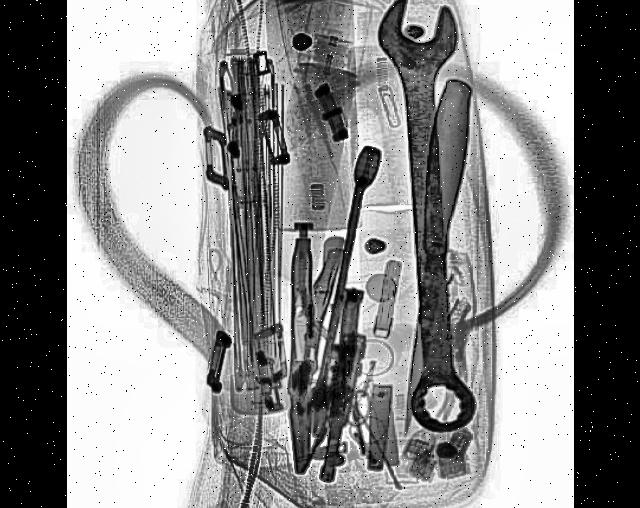Gun: (320, 285, 372, 489), (289, 238, 317, 478)
Knife: (390, 78, 478, 440)
Wrench: (376, 0, 485, 441)
